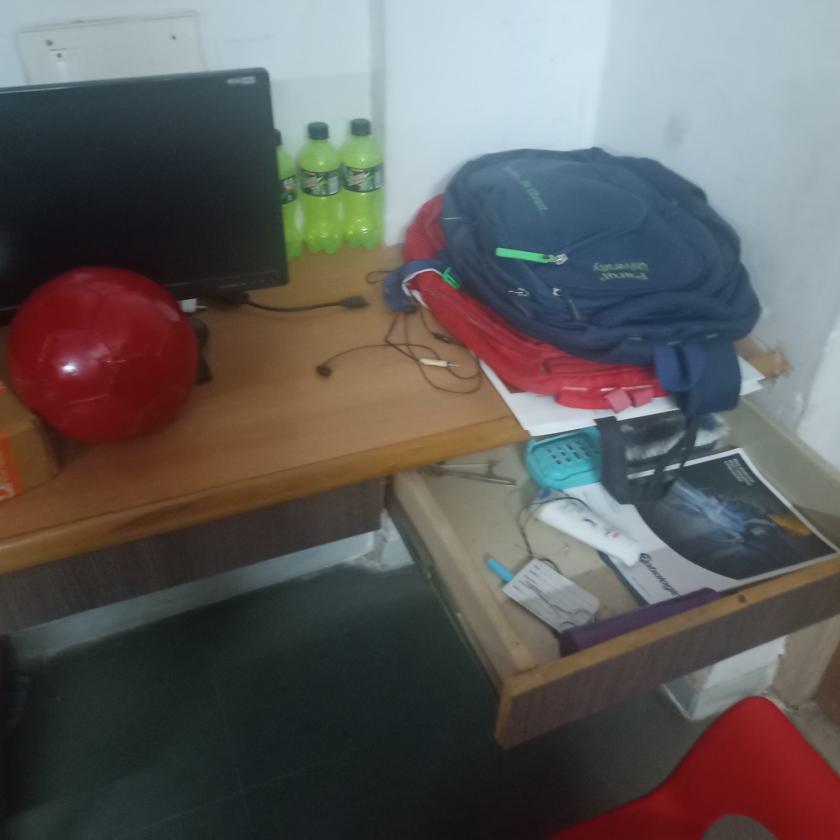Red_Ball: (8, 268, 202, 448)
